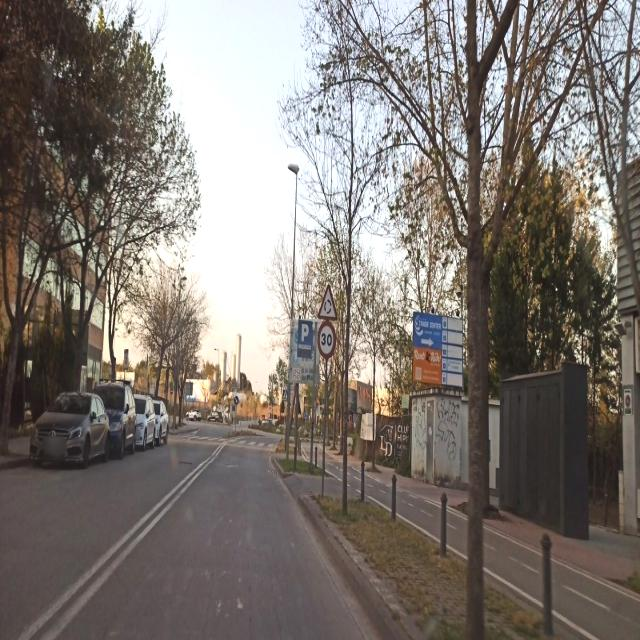car: (29, 389, 111, 468), (94, 380, 136, 458), (134, 393, 156, 451), (153, 398, 170, 446)
